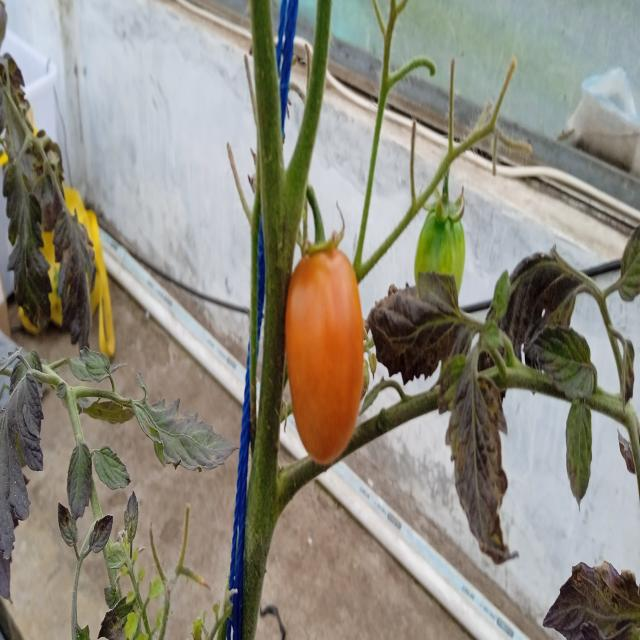overripe: (276, 218, 382, 472)
unripe: (413, 184, 481, 325)
